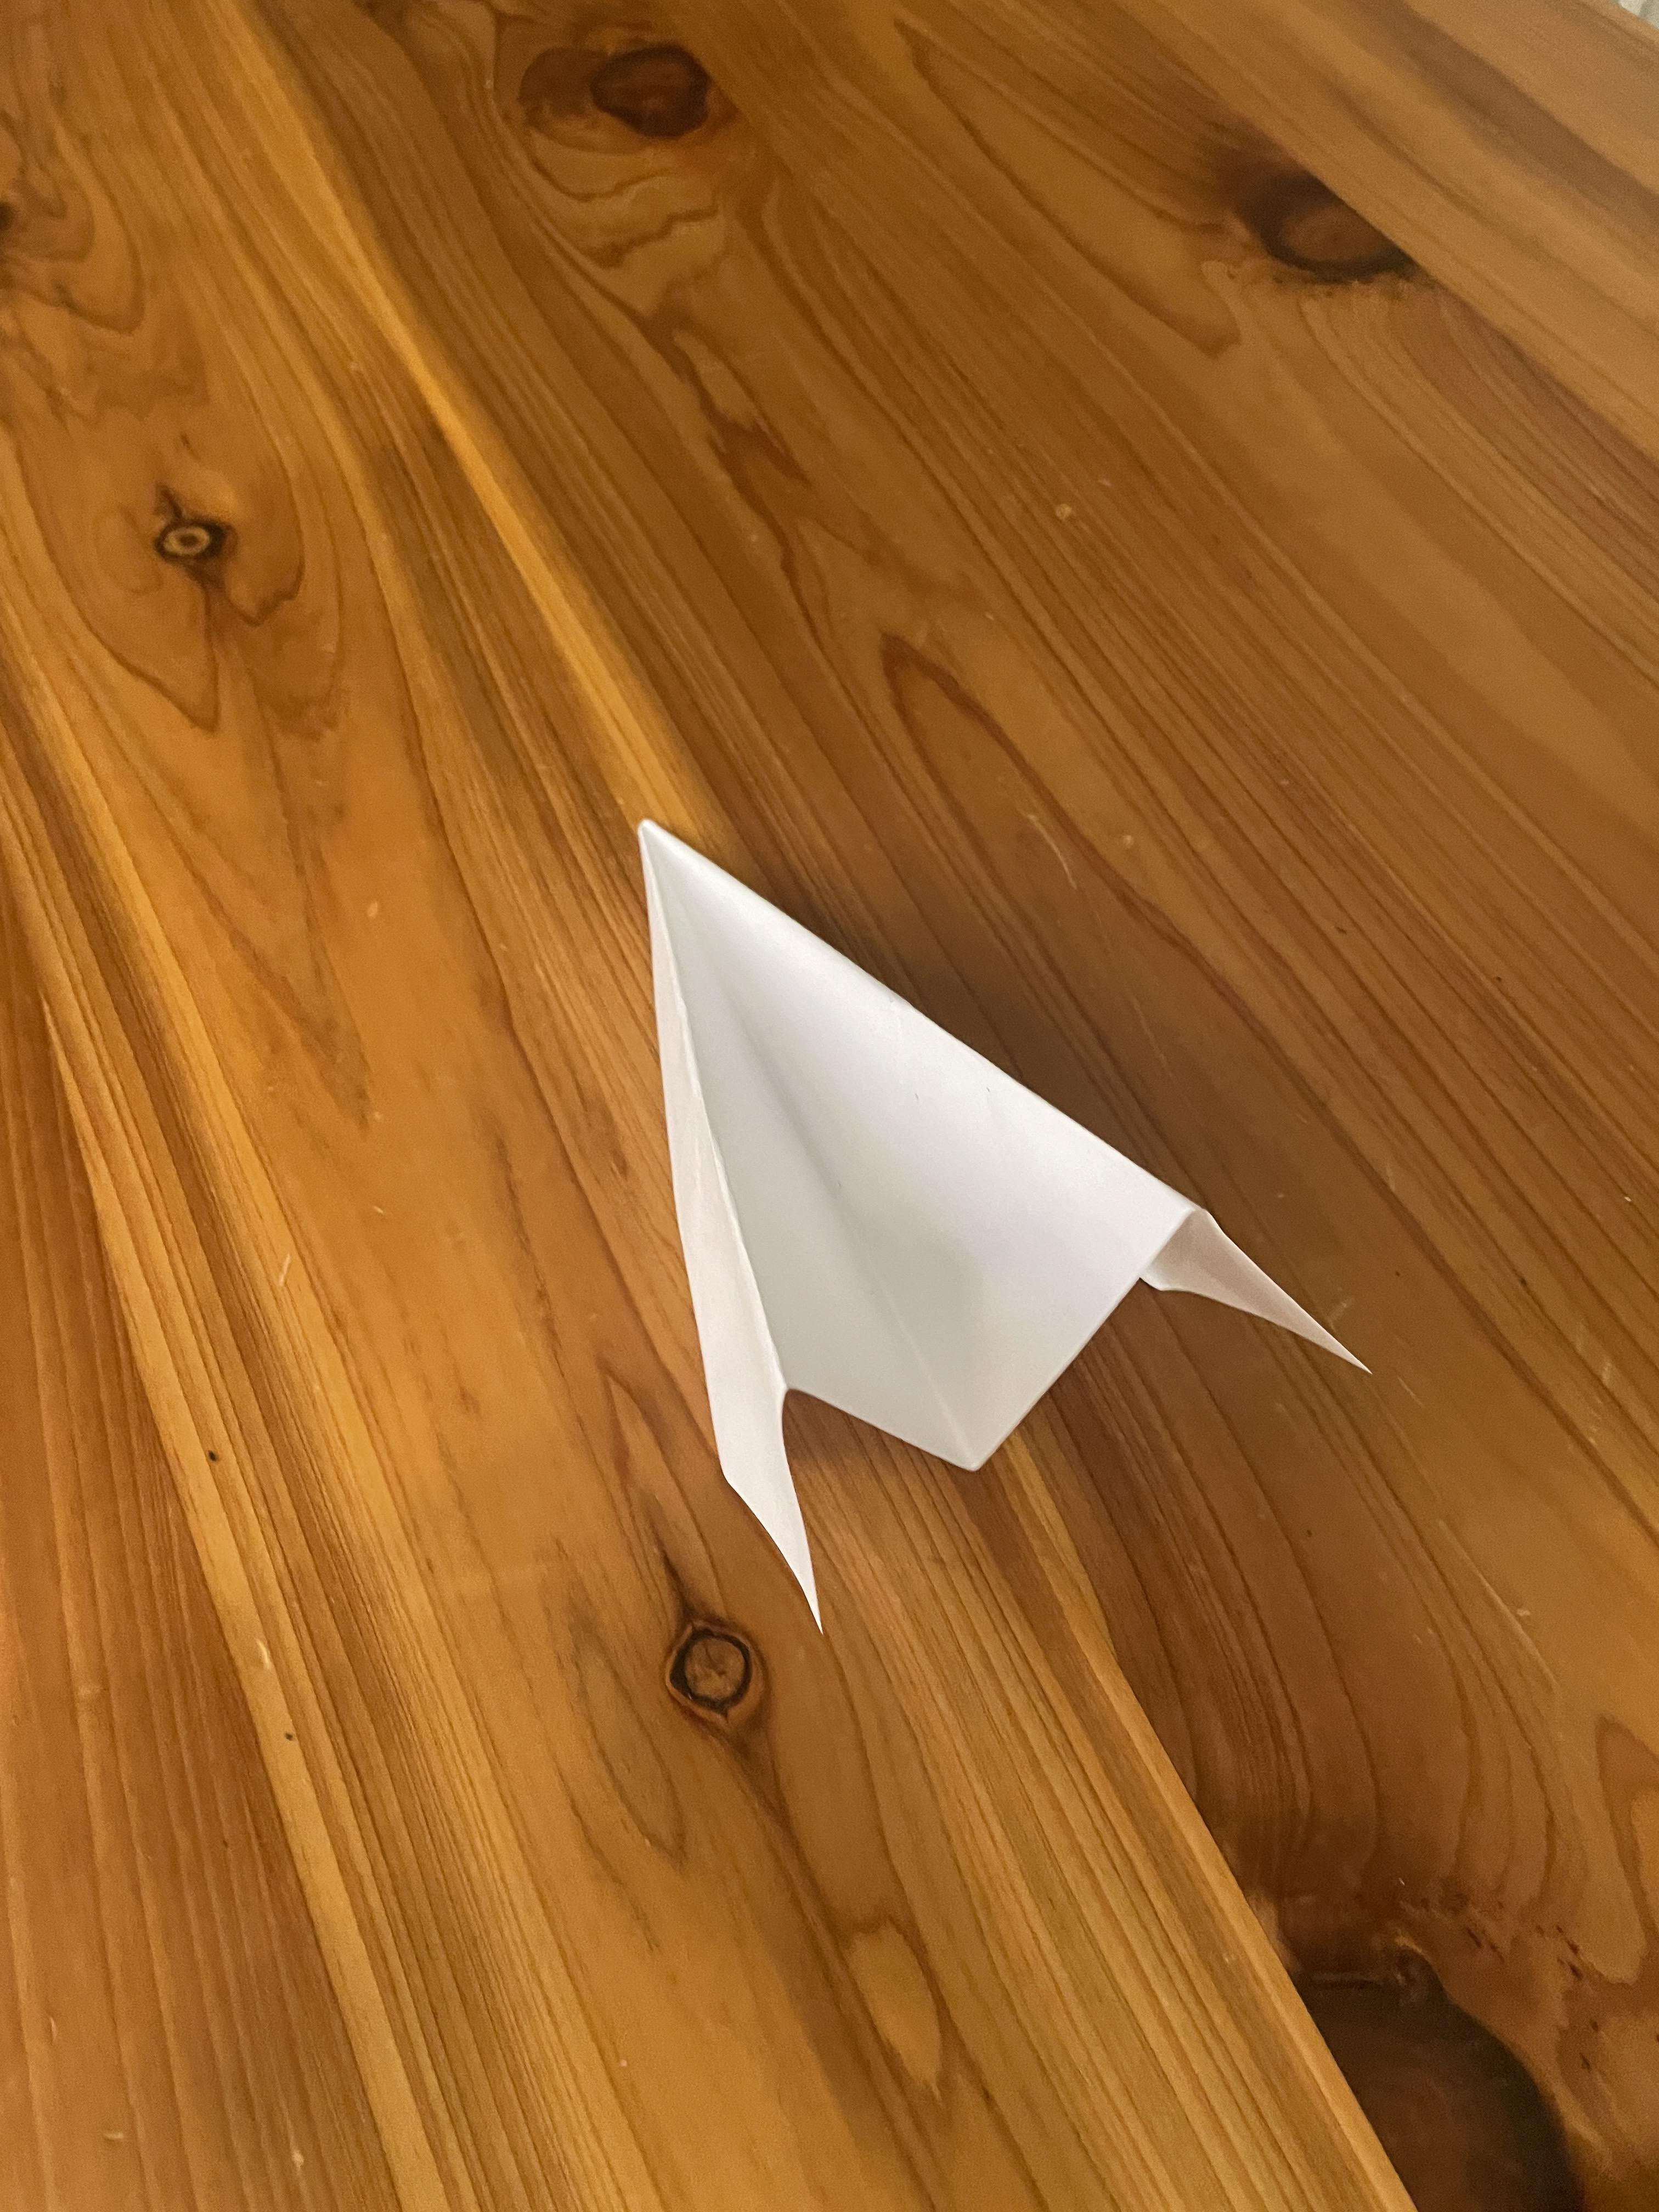shape_3: (493, 637, 1420, 1691)
